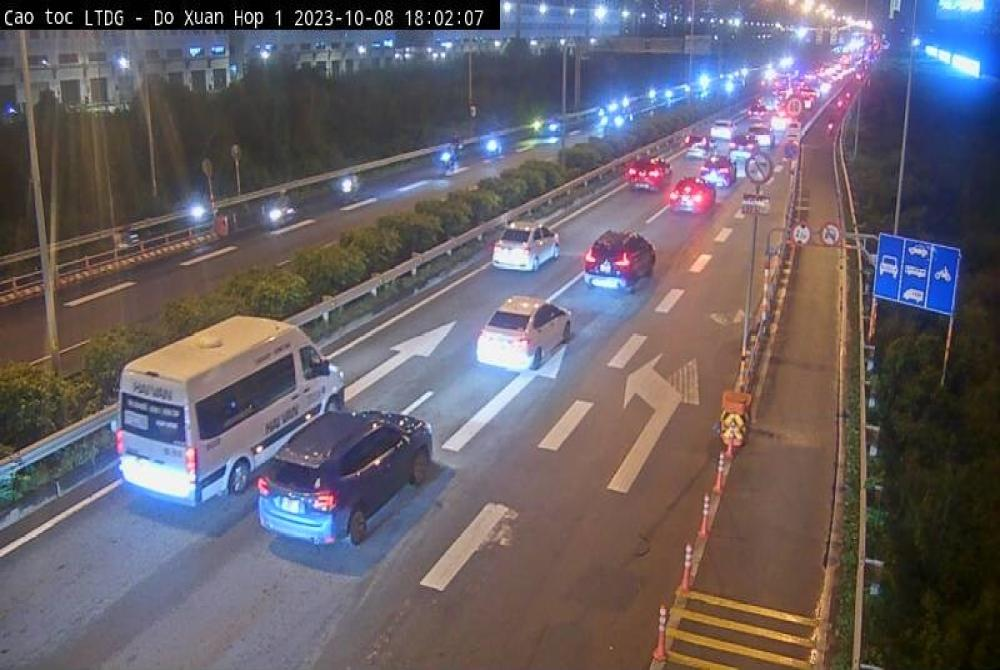car: (118, 318, 347, 506), (242, 398, 438, 562), (474, 290, 574, 407), (576, 210, 665, 321), (493, 215, 565, 288)
